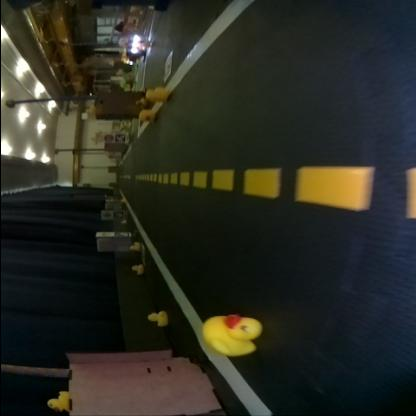Duckie: (203, 315, 257, 356), (45, 391, 69, 411), (144, 86, 166, 100), (146, 312, 164, 324), (138, 109, 154, 120), (130, 264, 142, 274), (128, 241, 138, 249), (134, 98, 144, 106), (118, 197, 127, 203)
QR code: (162, 51, 171, 81), (139, 244, 144, 262), (113, 134, 124, 142)
Stop sign: (102, 134, 112, 142)
